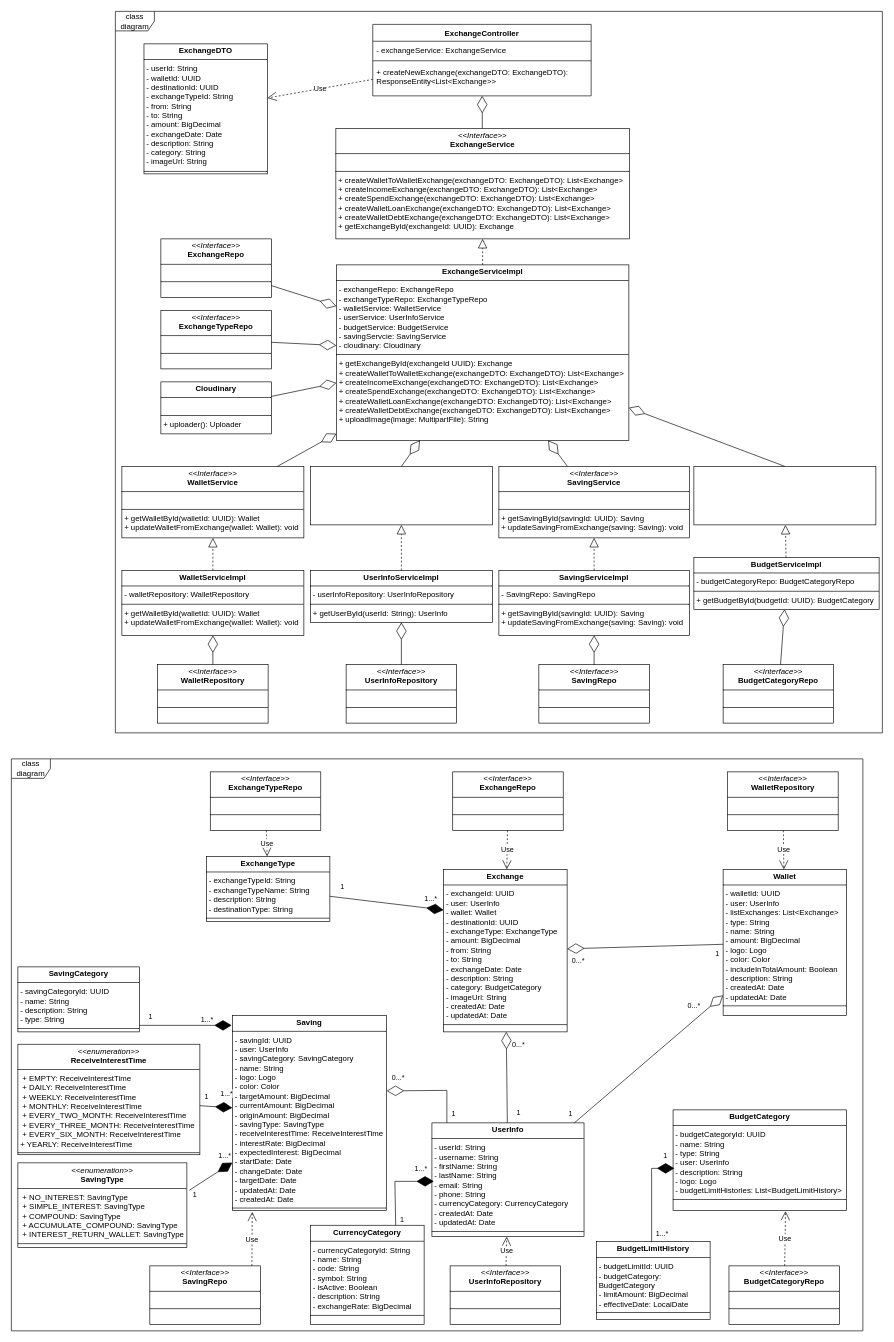
Some shapes in this 894 by 1342 pixel diagram are drawn without their labels. Here are the shapes that lost their labels. From the top down, the centre of each, then its label:
At (x=401, y=495): "<<Interface>> UserInfoService + getUserById(userId: String): UserInfo".
At (x=784, y=495): "<<Interface>> BudgetService + getBudgetById(budgetId: UUID): BudgetCategory".
